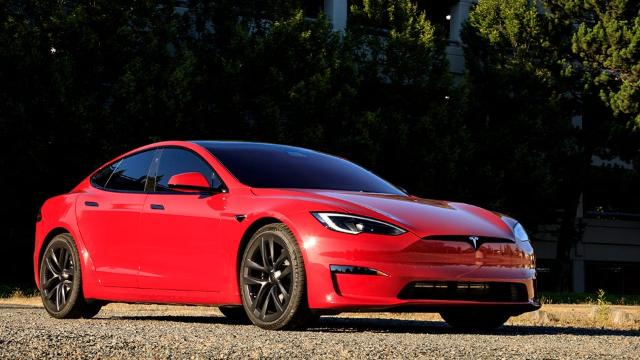tesla: (32, 140, 542, 330)
